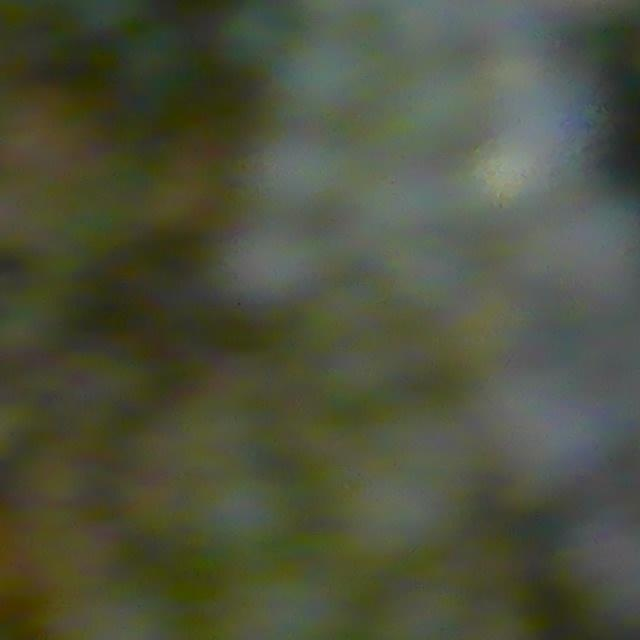SeaGrape: (339, 416, 474, 559), (157, 420, 289, 559), (486, 377, 612, 484), (234, 131, 360, 221), (553, 214, 638, 309), (202, 470, 294, 555), (386, 76, 471, 165), (238, 232, 330, 302), (508, 68, 589, 146), (386, 0, 464, 73), (286, 50, 367, 120), (460, 0, 545, 65), (217, 0, 292, 70), (486, 139, 560, 209), (389, 243, 463, 310)
